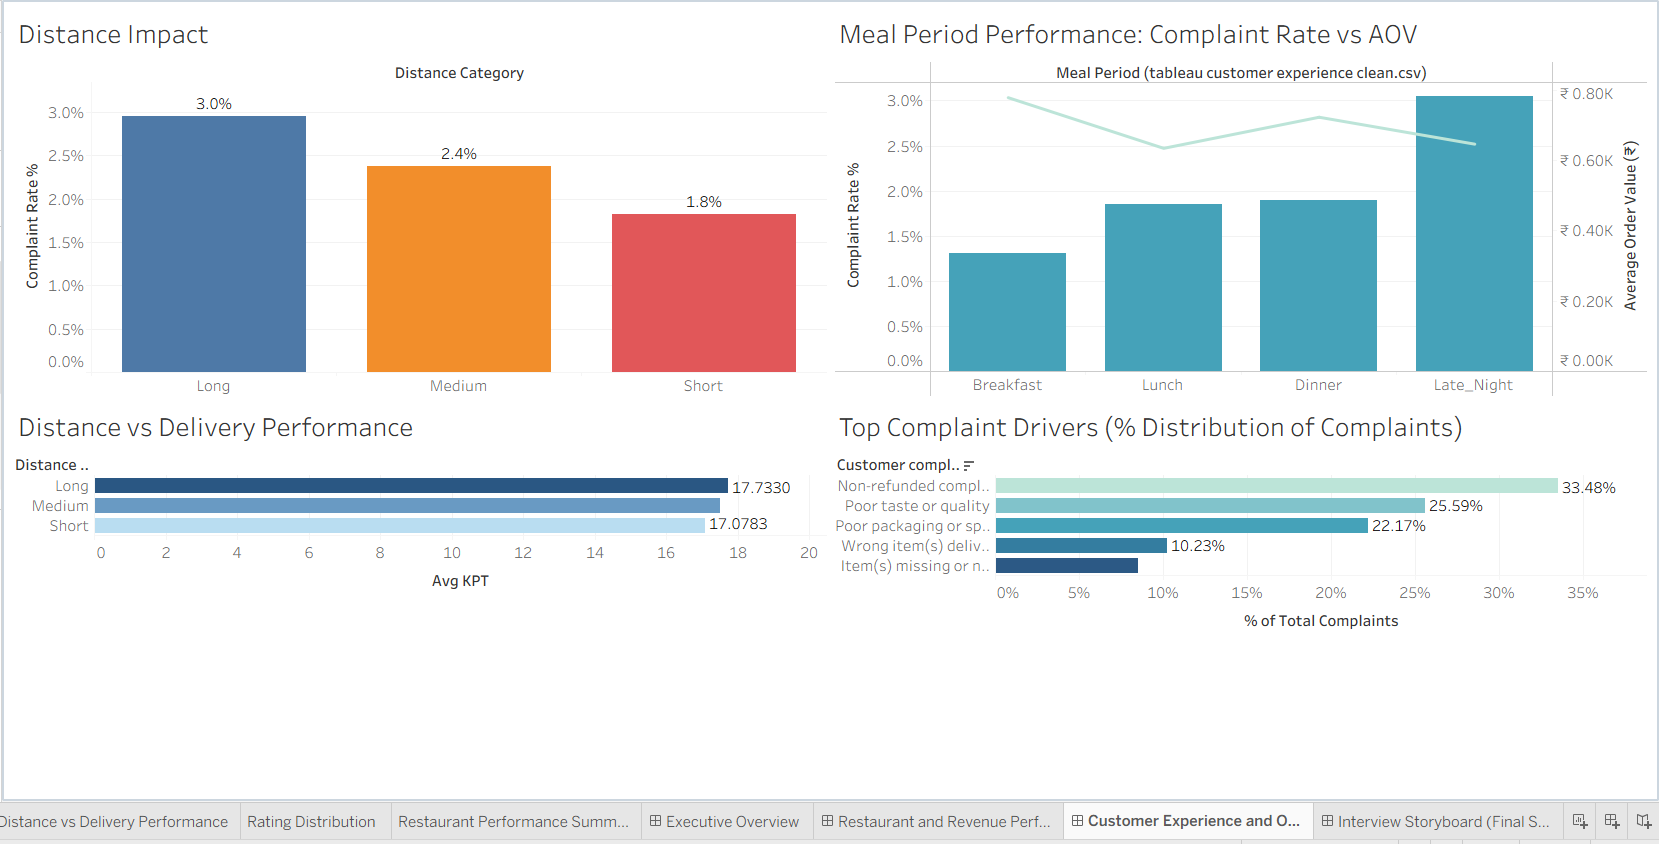

The dashboard page shown, as its layout file describes it:
{"tool":"tableau","page":{"name":"Customer Experience and Operations","canvas":[1000,1000],"units":"permille","ordinal":0},"visuals":[{"type":"worksheet","title":"Distance Impact","mark":"Automatic","rows":["Calculation_1829305934354829313"],"cols":["Distance_Category"],"box":[4.8,10,495.2,490]},{"type":"worksheet","title":"Meal Period Performance: Complaint Rate vs AOV ","mark":"Automatic","rows":["Calculation_1829305934354829313","Calculation_1829305934355091459"],"cols":["Meal_Period (tableau_customer_experience_clean.csv)"],"box":[500,10,495.2,490]},{"type":"worksheet","title":"Distance vs Delivery Performance","mark":"Bar","rows":["Distance_Category"],"cols":["Calculation_1829305934355283974"],"box":[4.8,500,495.2,490]},{"type":"worksheet","title":"Top Complaint Drivers (% Distribution of Complaints)","mark":"Automatic","rows":["Customer complaint tag"],"cols":["Order ID"],"box":[500,500,495.2,490]}]}

Visuals, with their boxes on the dashboard's canvas, which has no fixed pixel size, in thousandths of its width and height (x1, y1, x2, y2). These are canvas units, not pixel positions in the 1659x844 screenshot, which may show the page scaled, cropped or inside an application window:
"Distance Impact" worksheet: {"left": 5, "top": 10, "right": 500, "bottom": 500}
"Meal Period Performance: Complaint Rate vs AOV " worksheet: {"left": 500, "top": 10, "right": 995, "bottom": 500}
"Distance vs Delivery Performance" worksheet (Bar marks): {"left": 5, "top": 500, "right": 500, "bottom": 990}
"Top Complaint Drivers (% Distribution of Complaints)" worksheet: {"left": 500, "top": 500, "right": 995, "bottom": 990}
